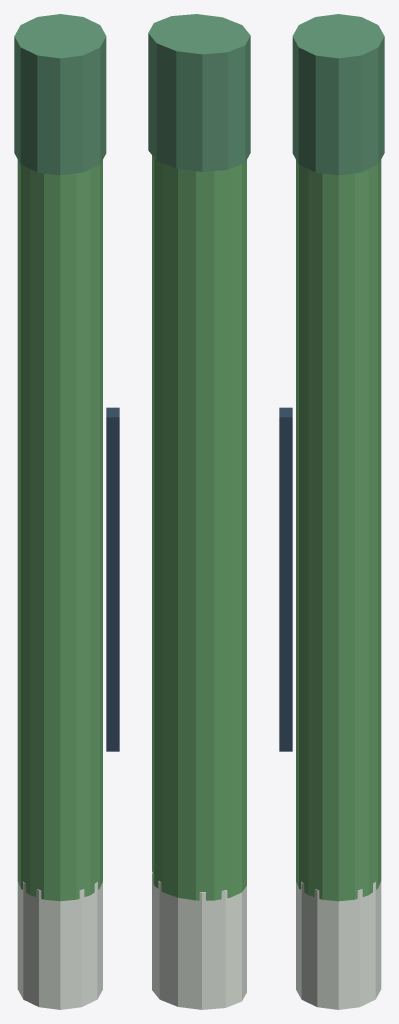
The model's file is pencil.glb.
The picture shows the model from 3 angles, left to right: view 1: azimuth 90°, elevation 25°; view 2: azimuth 150°, elevation 25°; view 3: azimuth 270°, elevation 25°; orthographic projection.
Parts seen in each view (by area): view 1: pencil; view 2: pencil; view 3: pencil.
Boxes of the visible parts, x1,y1,x2,y2 form: pencil: (14,14,119,1009); pencil: (148,14,250,1009); pencil: (279,14,384,1009).
Bounding box in the file's own units: 0.026 × 0.26 × 0.026.
